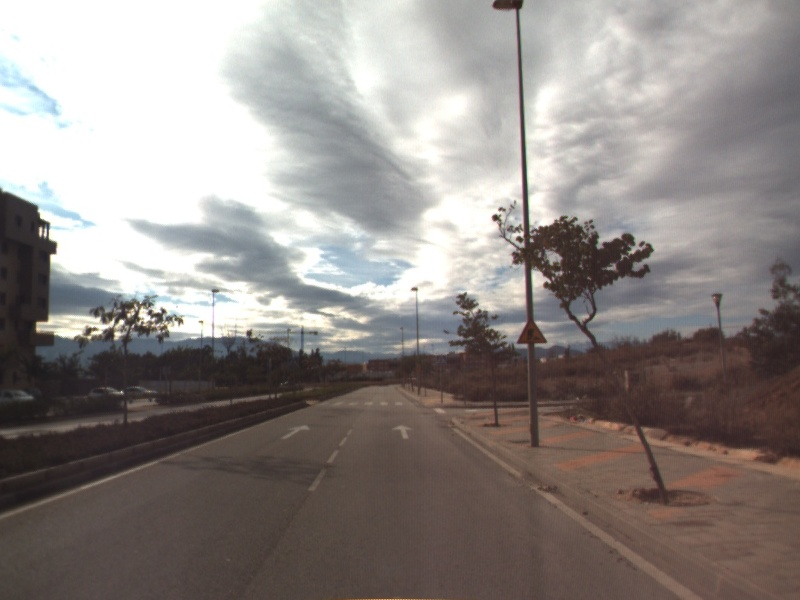STRAIGHT: (278, 422, 313, 441), (390, 422, 416, 441)
